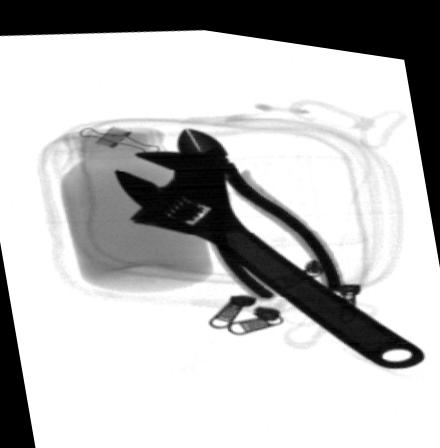Pliers: (176, 119, 346, 291)
Wrench: (113, 144, 427, 355)
